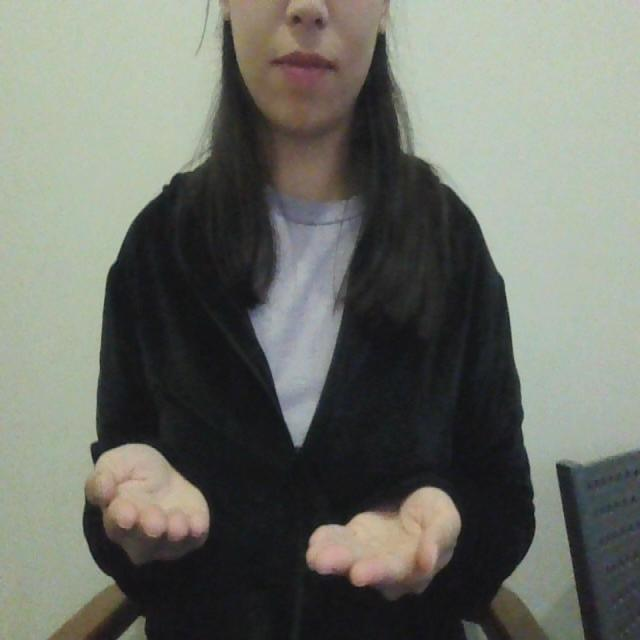Evet: (84, 434, 465, 610)
